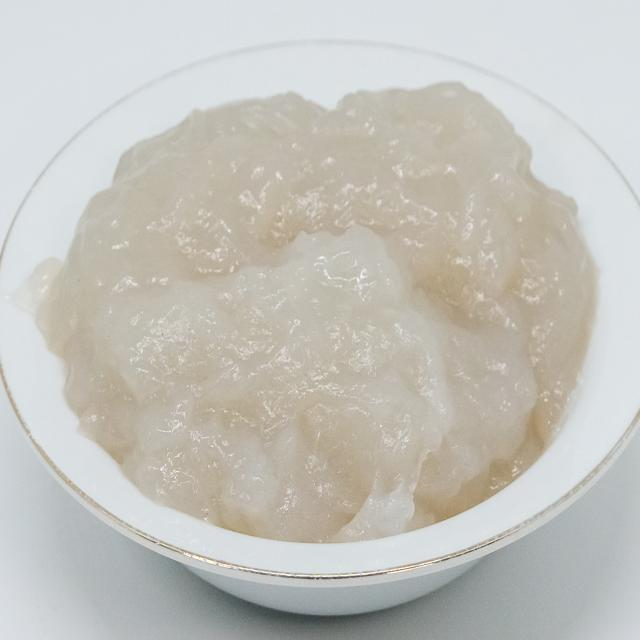Papeda: (26, 70, 610, 562)
